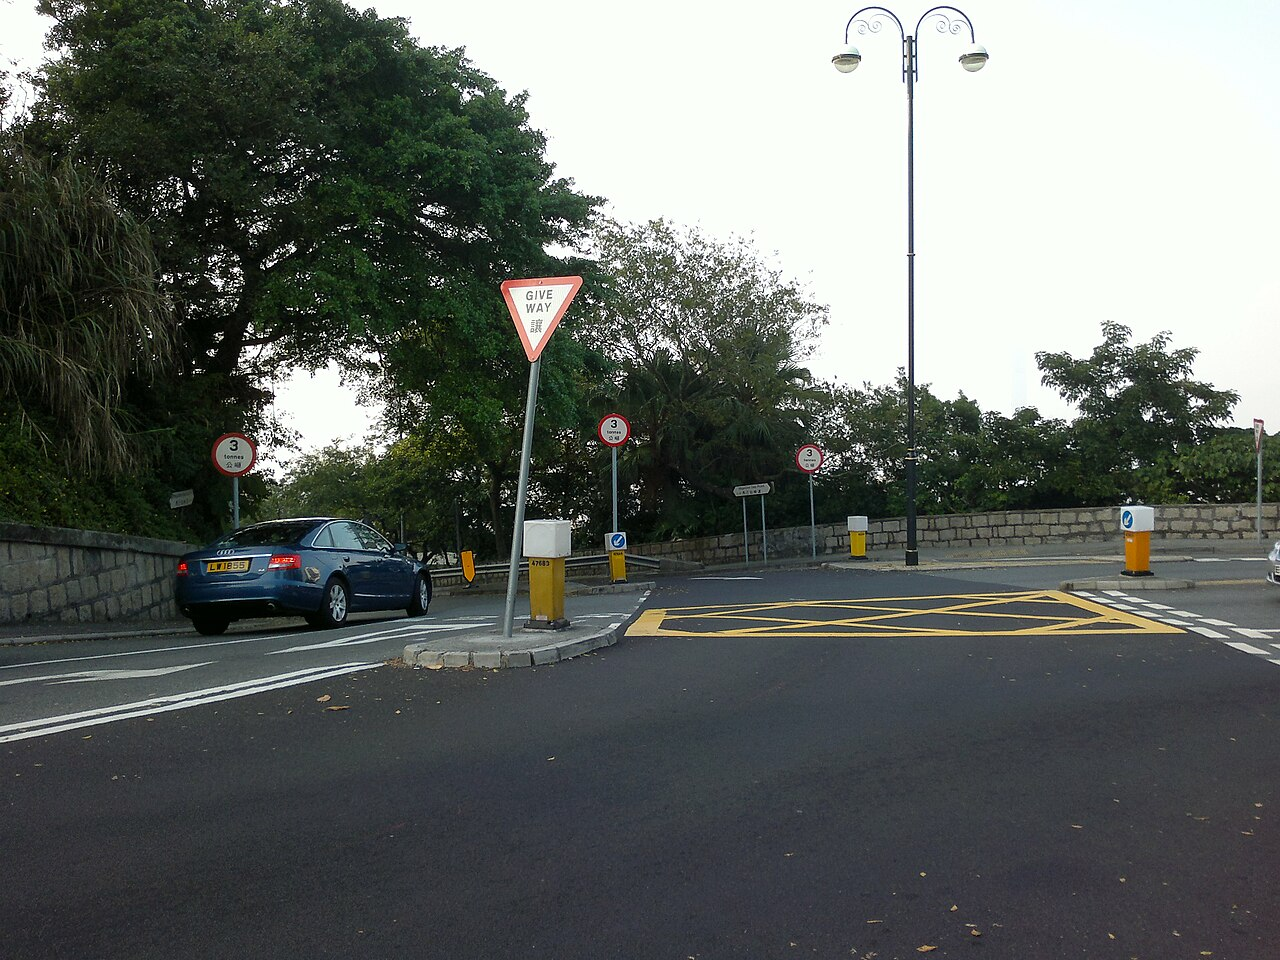Give Way: (502, 272, 574, 360)
